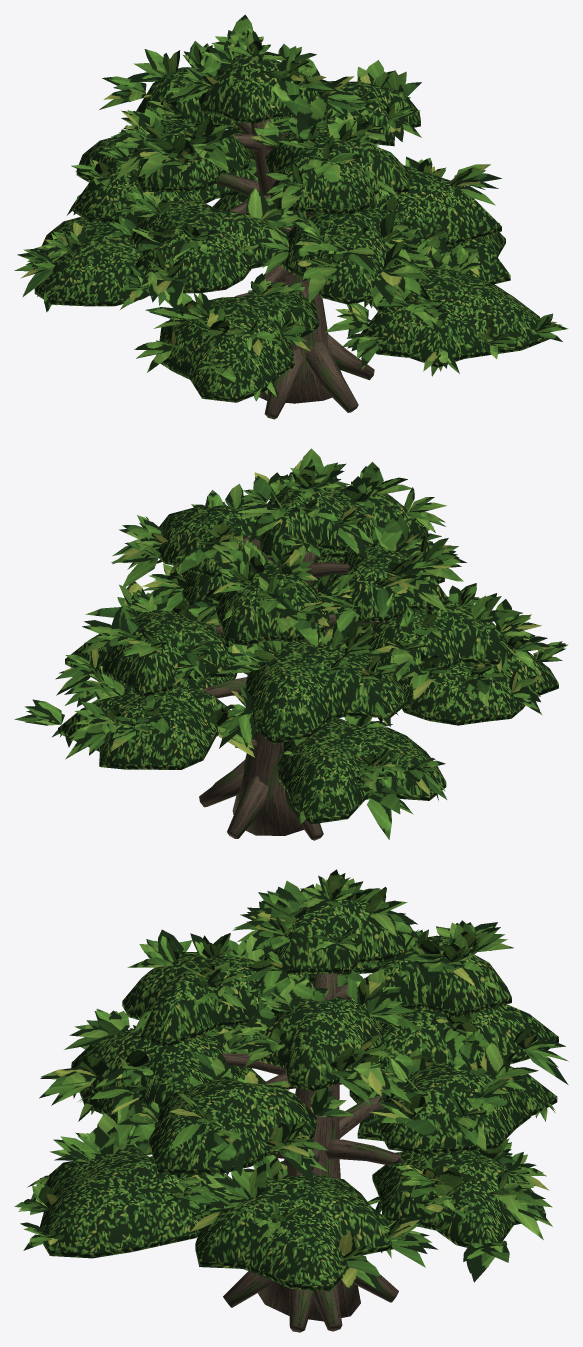
Rendered from Canopy_Tree_D.glb.
3 views of the same model, one above another, from view 1: azimuth 30°, elevation 25°; view 2: azimuth 150°, elevation 25°; view 3: azimuth 270°, elevation 25° (orthographic). The views are drawn at different scales.
Visible parts, largest first — view 1: Canopy_Tree_D__Leaves_Mass, Canopy_Tree_D__Leaves_Detail, Canopy_Tree_D__Bark; view 2: Canopy_Tree_D__Leaves_Mass, Canopy_Tree_D__Leaves_Detail, Canopy_Tree_D__Bark; view 3: Canopy_Tree_D__Leaves_Mass, Canopy_Tree_D__Leaves_Detail, Canopy_Tree_D__Bark.
Boxes of the visible parts, x1,y1,x2,y2 form: Canopy_Tree_D__Leaves_Mass: (34,54,549,402); Canopy_Tree_D__Leaves_Detail: (14,14,568,401); Canopy_Tree_D__Bark: (216,119,374,419); Canopy_Tree_D__Leaves_Mass: (58,485,558,824); Canopy_Tree_D__Leaves_Detail: (14,448,568,839); Canopy_Tree_D__Bark: (199,537,376,840); Canopy_Tree_D__Leaves_Mass: (39,899,558,1291); Canopy_Tree_D__Leaves_Detail: (14,869,568,1293); Canopy_Tree_D__Bark: (221,973,404,1332).
Size of the model in its own units: 45.16 by 37.31 by 45.52.
Materials: 2 (2 with a texture image).
